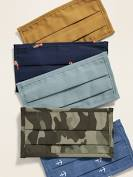cloth_mask: (18, 107, 114, 159)
